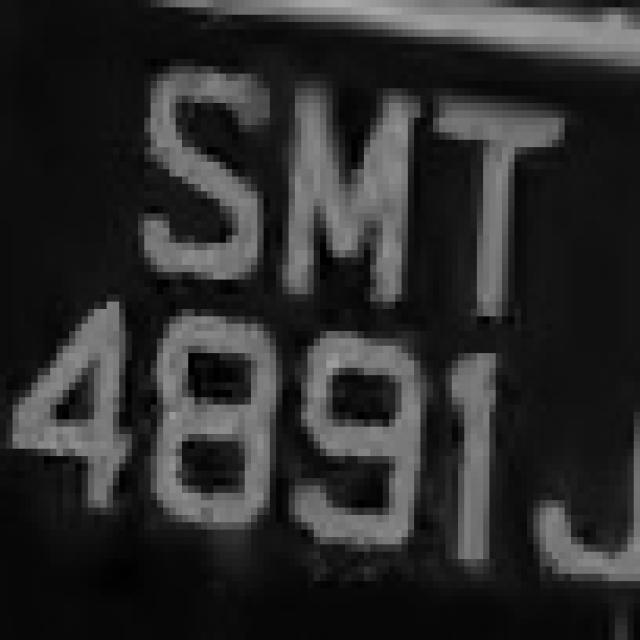1: (433, 309, 514, 596)
4: (12, 272, 150, 515)
8: (144, 287, 289, 544)
9: (289, 294, 433, 552)
M: (270, 59, 420, 331)
S: (125, 37, 270, 316)
T: (420, 59, 578, 338)
